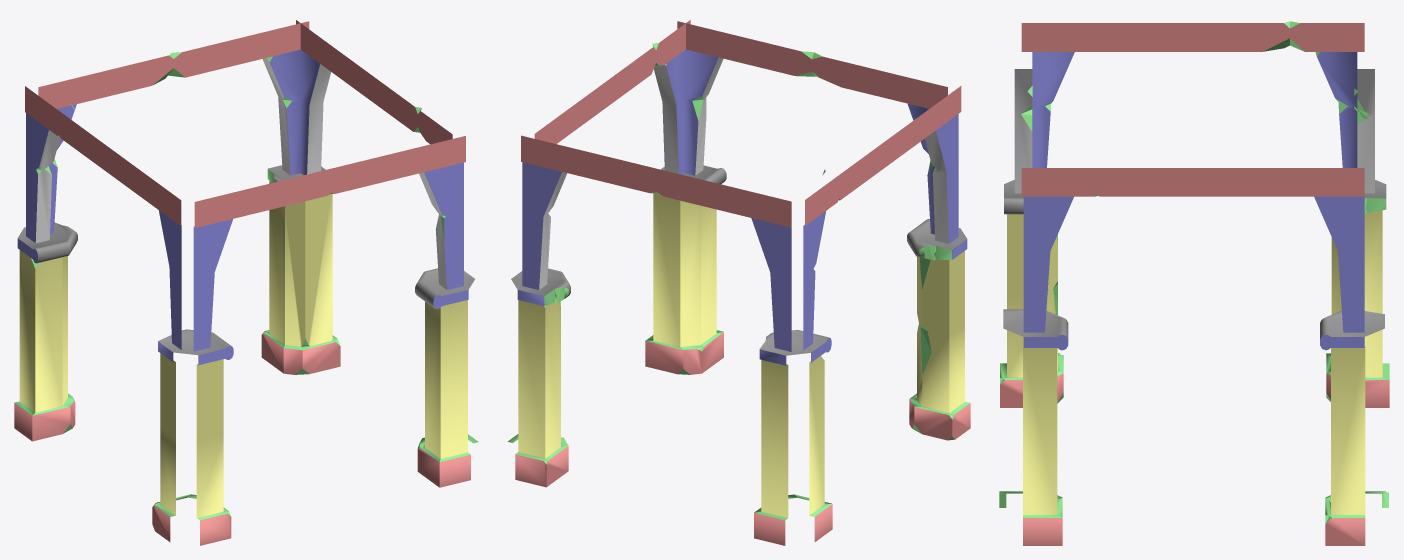
File: SSQ_crossway_1.gltf
3 renders of one model, left to right at view 1: azimuth 30°, elevation 25°; view 2: azimuth 150°, elevation 25°; view 3: azimuth 270°, elevation 25°, orthographic. The views are drawn at different scales.
Parts seen in each view (by area): view 1: SSQ_crossway_1; view 2: SSQ_crossway_1; view 3: SSQ_crossway_1.
Part boxes in pixels (x1=…): SSQ_crossway_1: x1=14, y1=20, x2=478, y2=545; SSQ_crossway_1: x1=507, y1=20, x2=970, y2=545; SSQ_crossway_1: x1=999, y1=21, x2=1389, y2=545.
Size of the model in its own units: 3.64 by 3.84 by 3.65.
